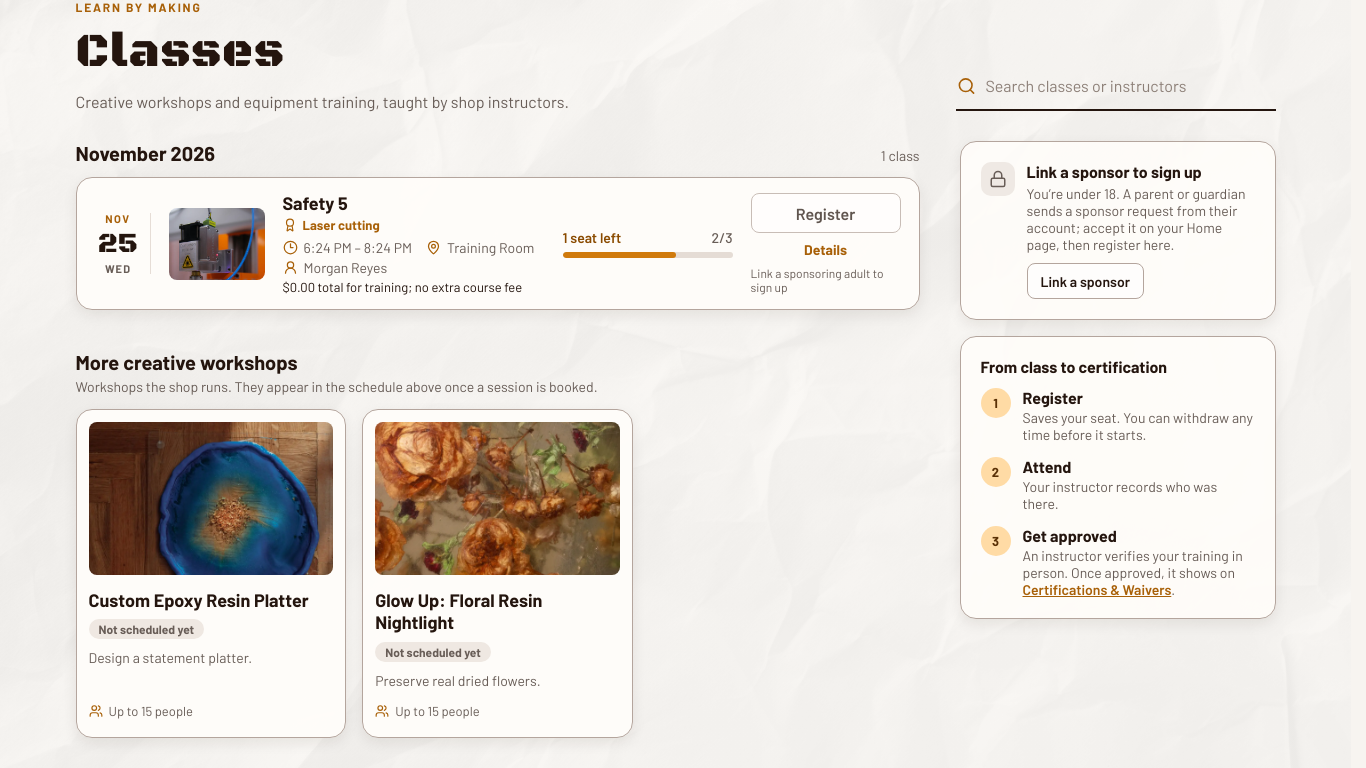
a minor without a sponsoring adult sees why Register is off and where to link one
Expected: the text "Link a sponsoring adult to sign up" is shown, [750,266,900,294]
Expected: the heading "Link a sponsor to sign up" is shown, [1026,162,1202,181]
Click the button with aria-label "Details for Safety 5" at (826, 250), box [800,237,851,262]
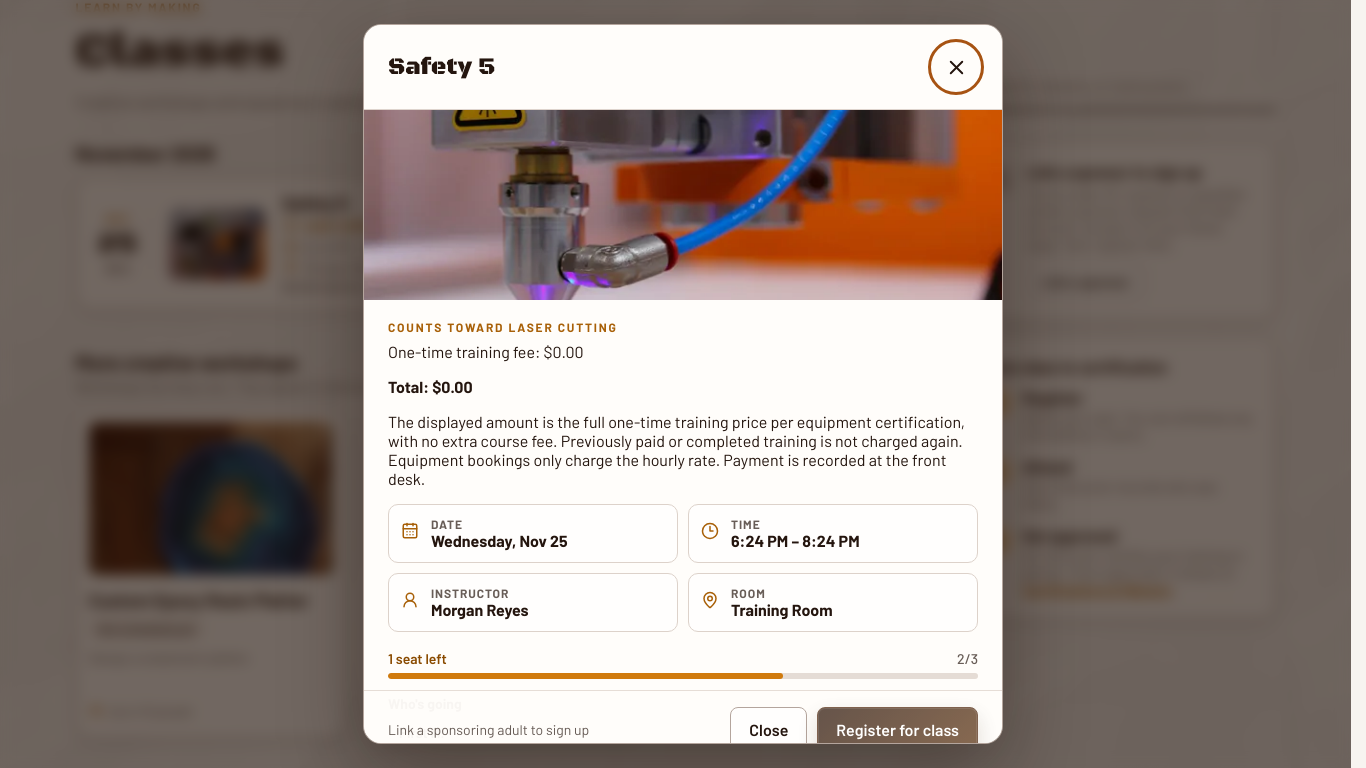
Now the button "Register for class" is disabled, box [817,707,978,744]
Now the text "Link a sponsoring adult to sign up" is shown, box [388,720,589,738]
